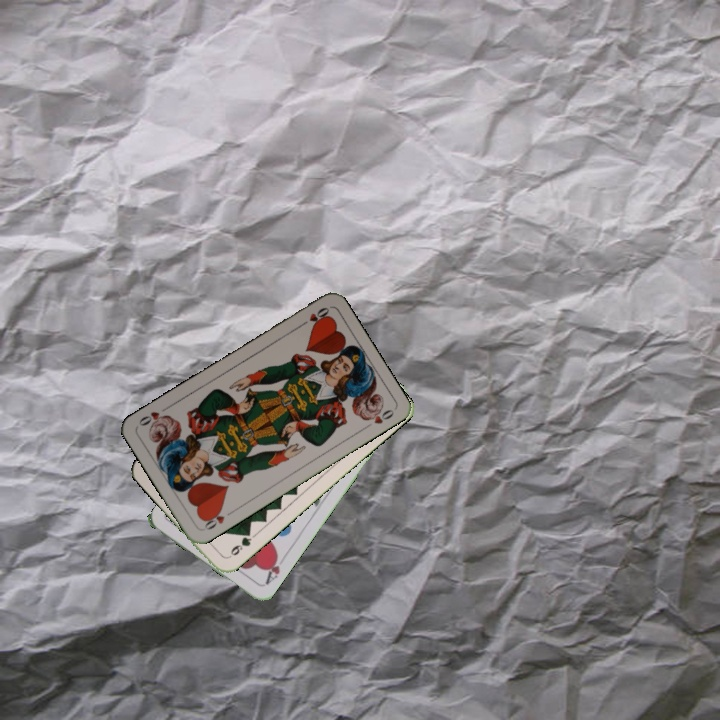G9: (224, 527, 254, 561)
HA: (261, 550, 283, 588)
HO: (199, 505, 236, 533), (295, 303, 332, 330)
